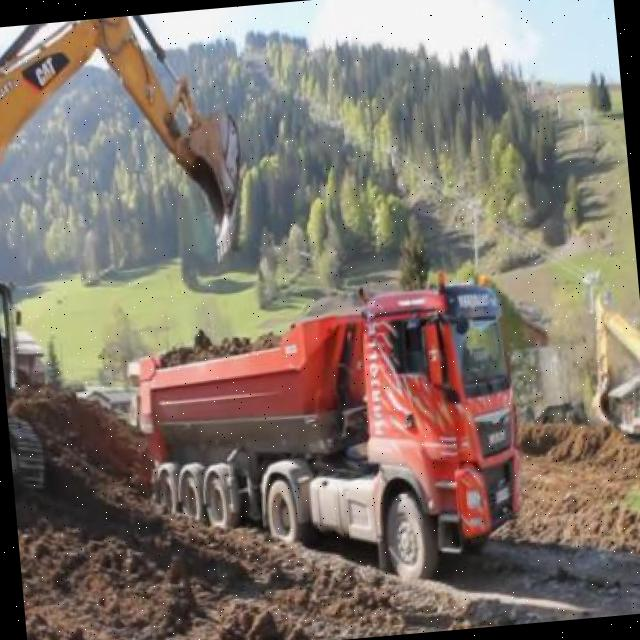Dump Truck: (114, 265, 531, 603)
Excavator: (0, 6, 271, 507), (574, 285, 640, 446)
